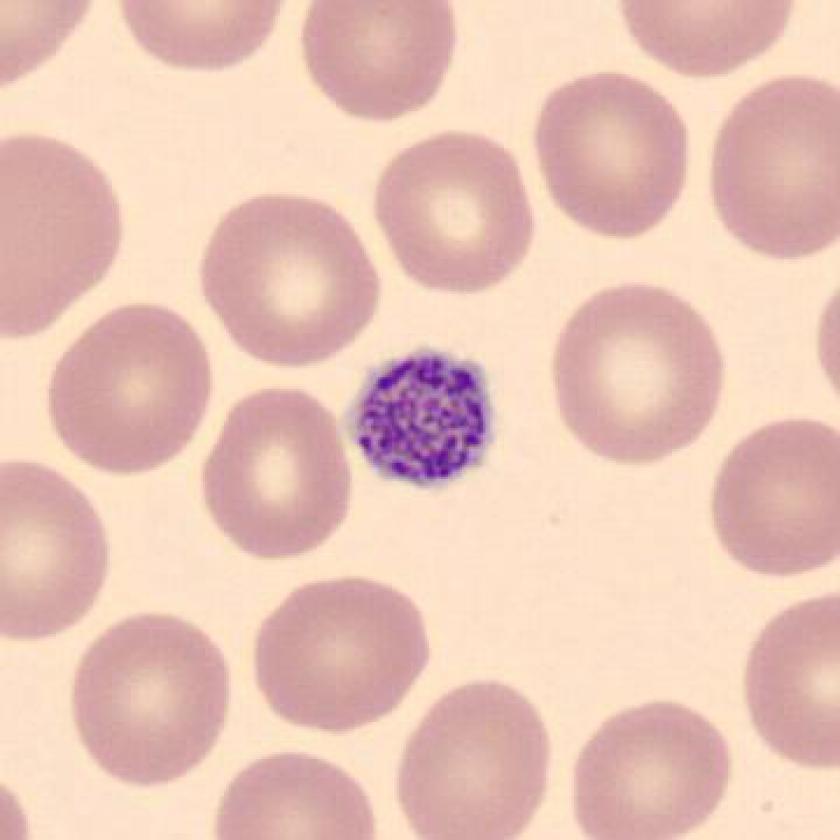platelets: (337, 332, 510, 501)
